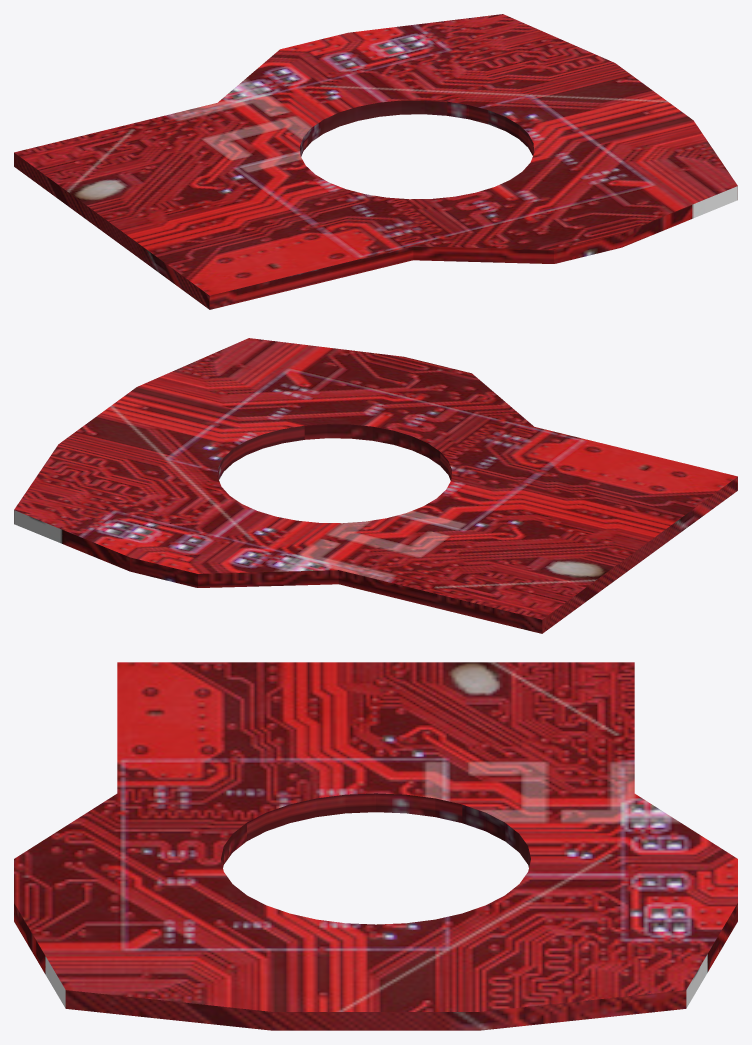
The model's file is shassie.dae.
The picture shows the model from 3 angles, top to bottom: view 1: azimuth 30°, elevation 25°; view 2: azimuth 150°, elevation 25°; view 3: azimuth 270°, elevation 25°; orthographic projection. The views are drawn at different scales.
Visible parts, largest first — view 1: Plane; view 2: Plane; view 3: Plane.
Boxes of the visible parts, x1=… form: Plane: x1=14, y1=14, x2=737, y2=309; Plane: x1=14, y1=338, x2=737, y2=633; Plane: x1=14, y1=662, x2=737, y2=1030.
Size of the model in its own units: 0.08 by 0.07 by 0.002.
Materials: 1 (1 with a texture image).
